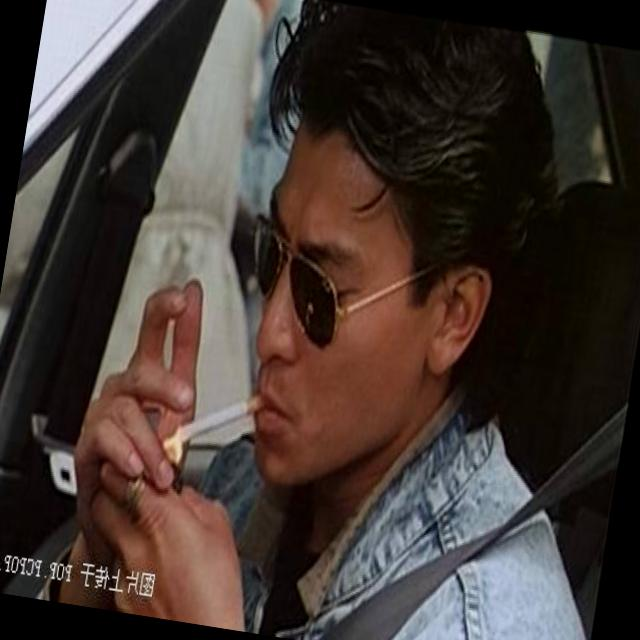cigarette: (174, 371, 268, 459)
